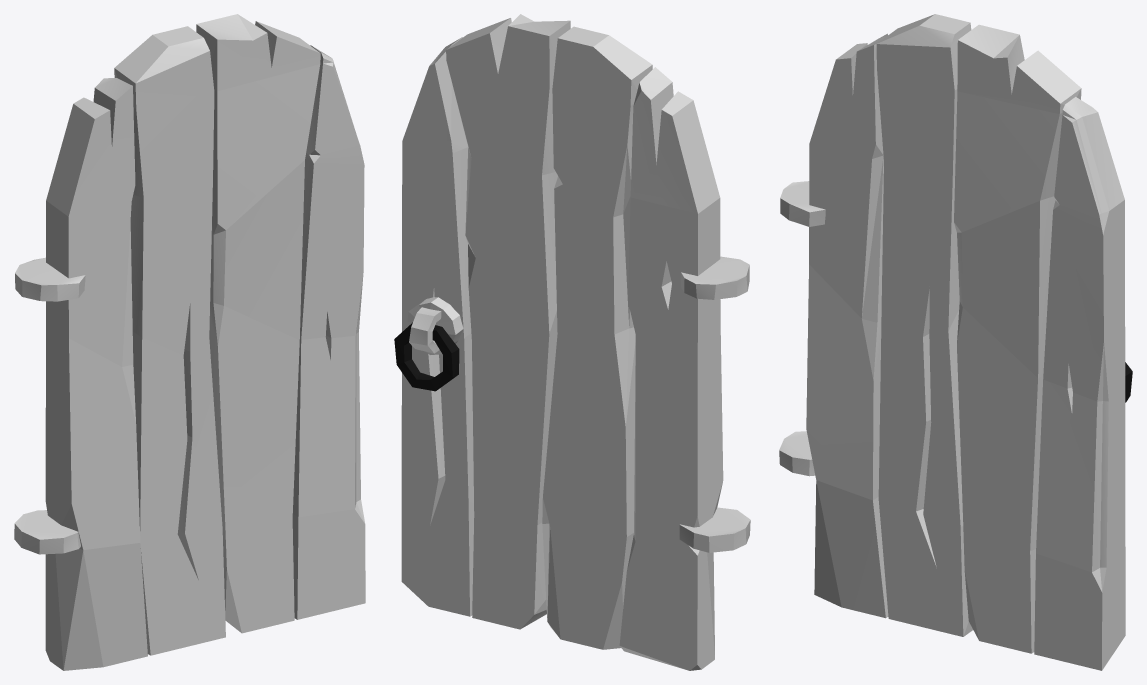
File: NGF_Env_Door_01.fbx
The picture shows the model from 3 angles, left to right: view 1: azimuth 30°, elevation 25°; view 2: azimuth 150°, elevation 25°; view 3: azimuth 330°, elevation 25°; orthographic projection.
Visible parts, largest first — view 1: NGF_Env_Door_01, NGF_Env_Hinges_05; view 2: NGF_Env_Door_01, NGF_Env_Hinges_05, NGF_Env_Handle_03, NGF_Env_Handle_attachment_03; view 3: NGF_Env_Door_01, NGF_Env_Hinges_05.
Boxes of the visible parts, box(x1,y1,x2,y2) form: NGF_Env_Door_01: box(45, 14, 365, 670); NGF_Env_Hinges_05: box(14, 257, 85, 554); NGF_Env_Door_01: box(401, 14, 723, 670); NGF_Env_Hinges_05: box(679, 256, 750, 552); NGF_Env_Handle_03: box(394, 322, 459, 391); NGF_Env_Handle_attachment_03: box(407, 297, 463, 354); NGF_Env_Door_01: box(806, 14, 1125, 670); NGF_Env_Hinges_05: box(779, 181, 825, 476).
Bounding box in the file's own units: 1.35 × 2.32 × 0.3365.
1 material, 1 textured.
